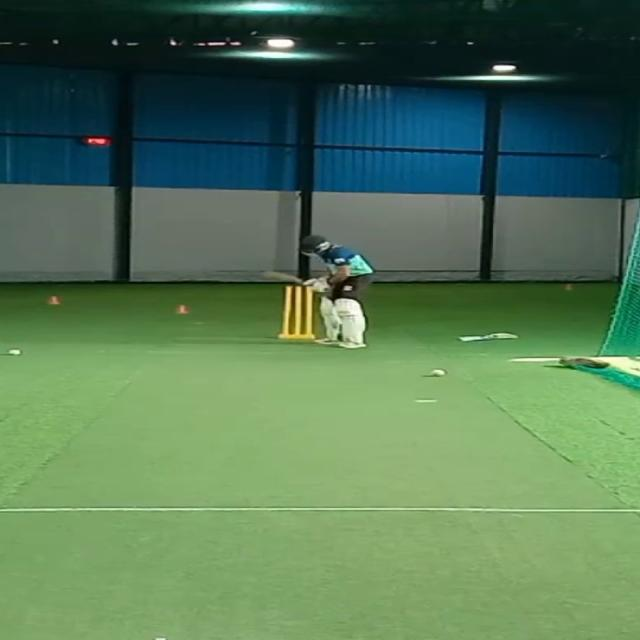ball: (421, 364, 447, 380)
stump: (275, 282, 316, 339)
